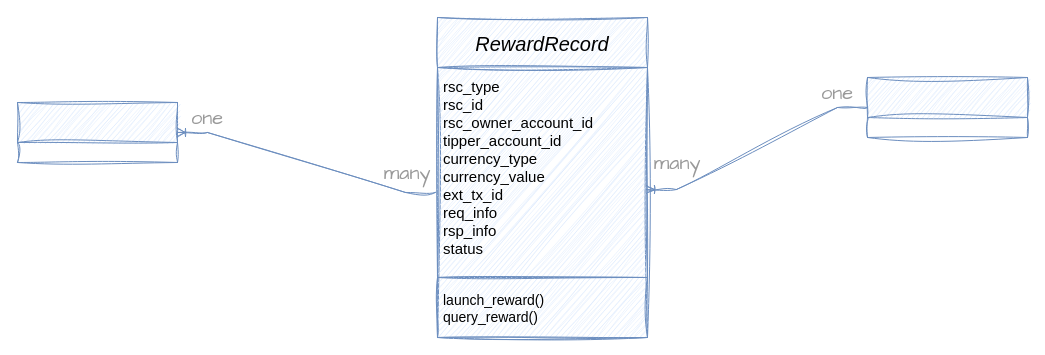
This 1045x355 diagram has some shape labels left out. Here are the shapes that lost their labels. From the top down, the centre of each, then its label:
At (947,107): "Content".
At (97,132): "Shop".
